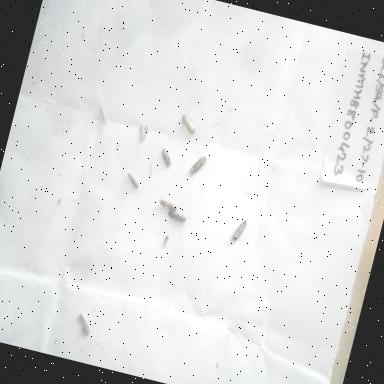pbw: (70, 308, 96, 338), (228, 214, 250, 248), (184, 150, 208, 180), (154, 192, 180, 214), (121, 168, 143, 191), (155, 145, 176, 169), (164, 206, 189, 226), (178, 112, 198, 135), (139, 122, 152, 142), (132, 122, 144, 140)
